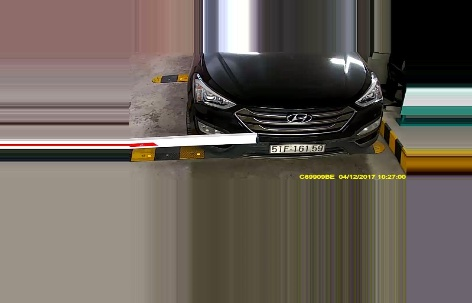plate: (269, 140, 323, 156)
